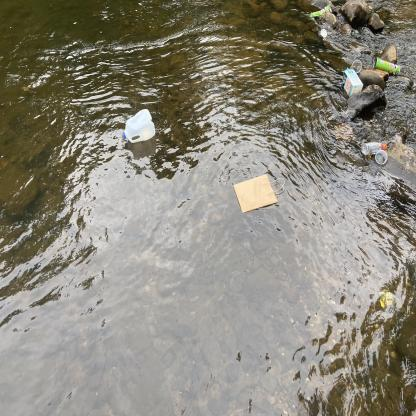trash: (232, 170, 288, 216), (120, 102, 157, 149), (371, 54, 402, 78), (341, 66, 364, 97), (309, 3, 335, 20), (359, 140, 388, 155), (373, 148, 390, 167), (348, 57, 365, 75), (316, 28, 330, 40)
